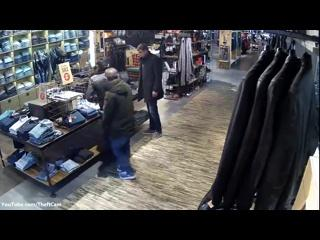Normal: (198, 44, 318, 208), (98, 68, 136, 181), (136, 44, 164, 138)
